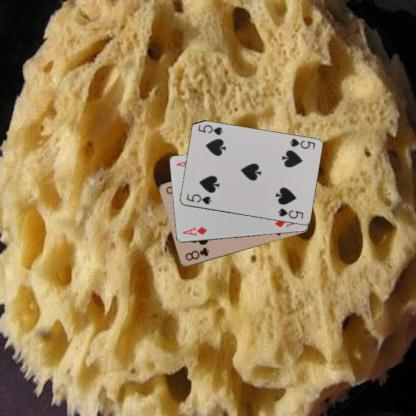5s: (184, 190, 212, 206), (287, 136, 316, 150)
8c: (183, 245, 210, 262)
Ad: (180, 224, 208, 238)
